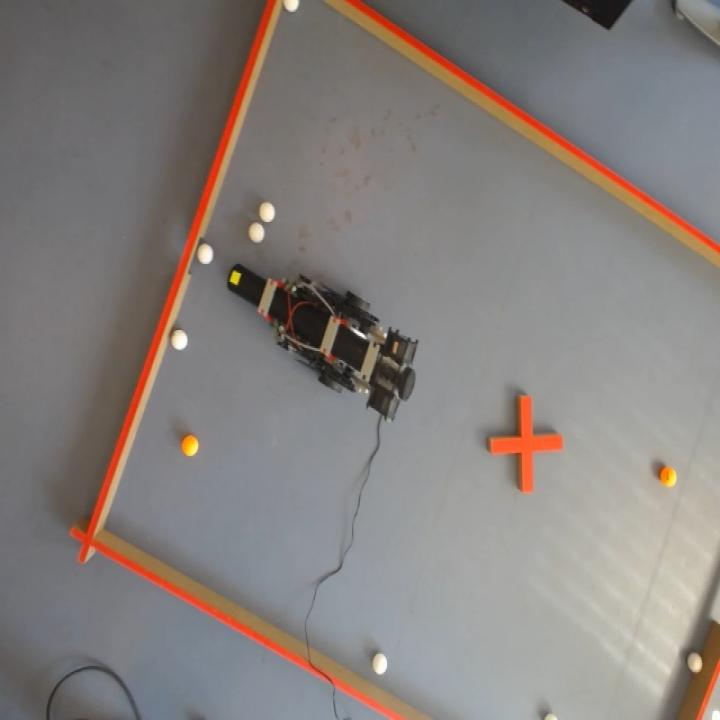orange: (180, 434, 199, 457), (660, 466, 677, 488)
robot: (227, 264, 420, 422)
robot-front: (227, 264, 262, 304)
white: (686, 651, 704, 675), (249, 222, 265, 244), (373, 652, 388, 675), (197, 244, 213, 264), (172, 330, 188, 350), (259, 202, 275, 222), (282, 0, 299, 12), (544, 713, 558, 720)
